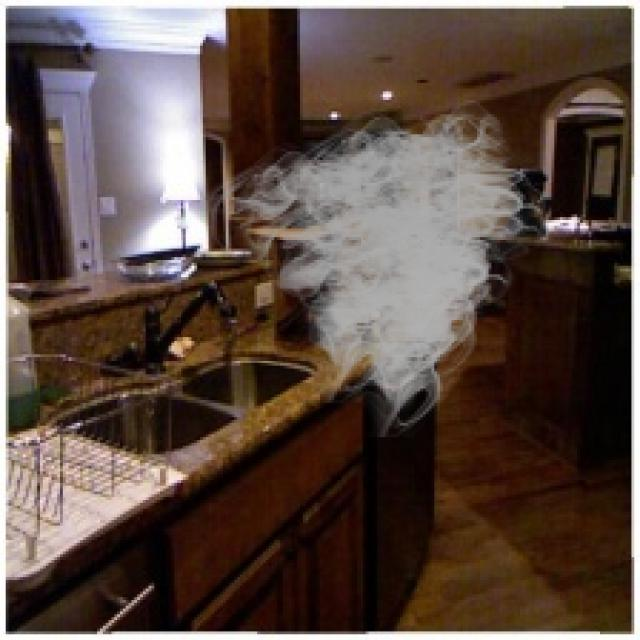smoke: (197, 92, 557, 437)
